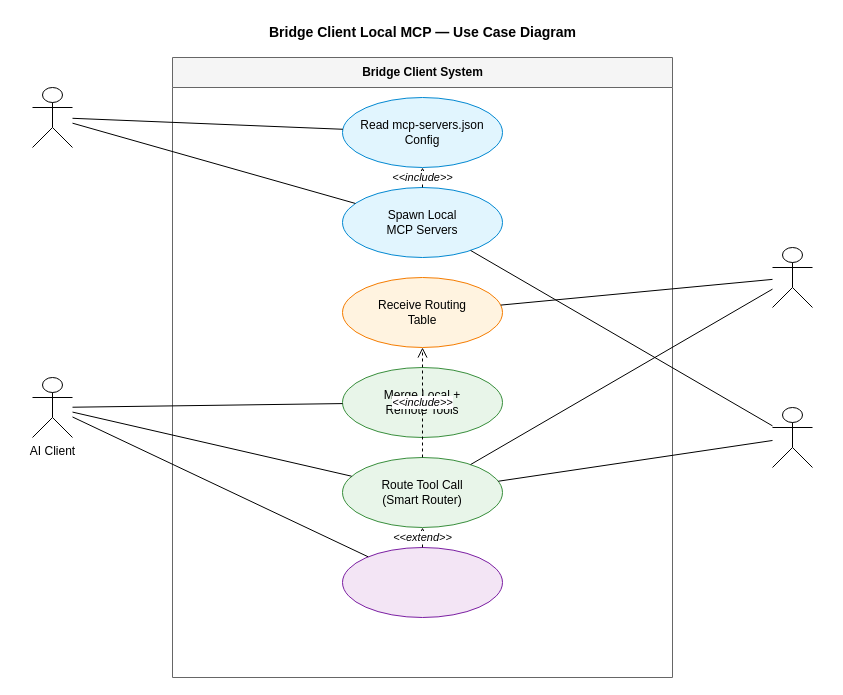
Some shapes in this 843 by 695 pixel diagram are drawn without their labels. Here are the shapes that lost their labels. From the top down, the box of each, then its label:
(32, 86, 72, 148): Bridge Admin
(772, 246, 812, 308): Orchestrator
(772, 406, 812, 468): Local MCP Server
(342, 546, 502, 618): Local Embedding (all-MiniLM-L6-v2)
